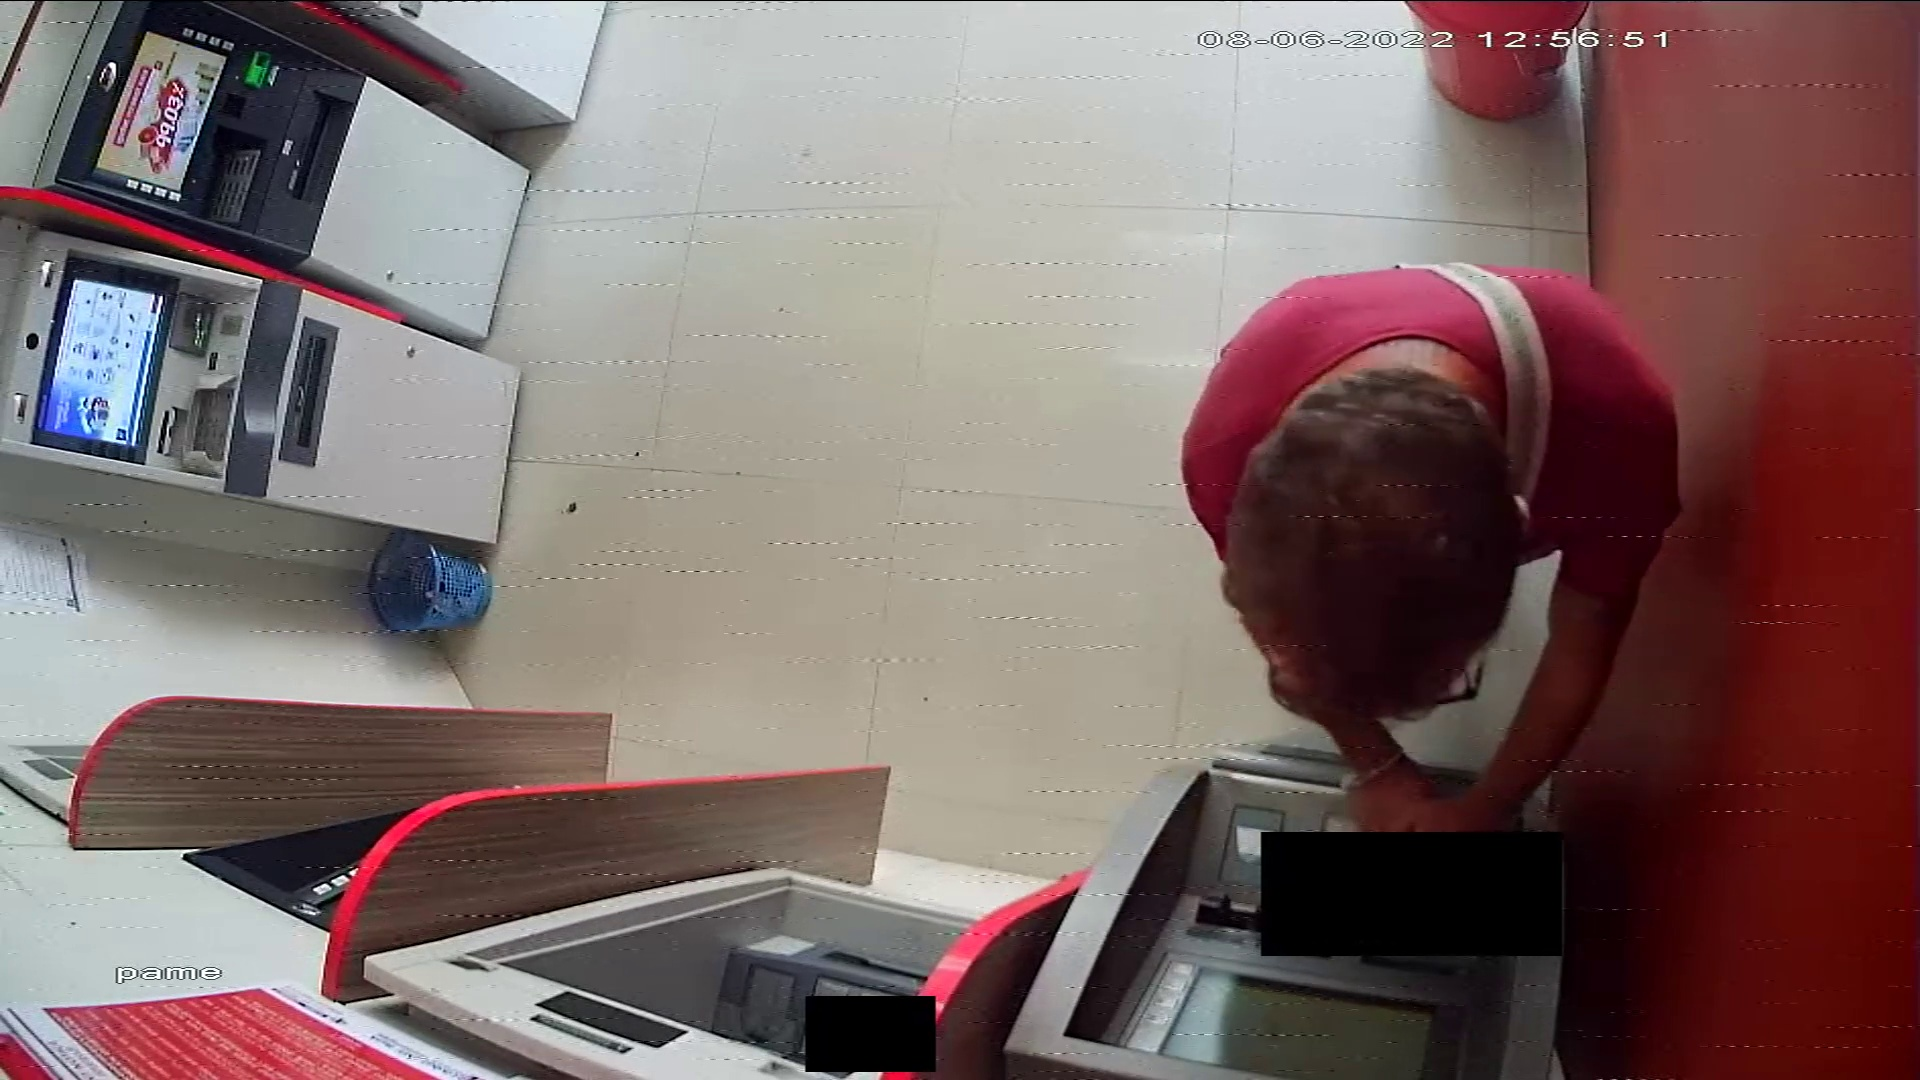person: (1176, 254, 1682, 845)
